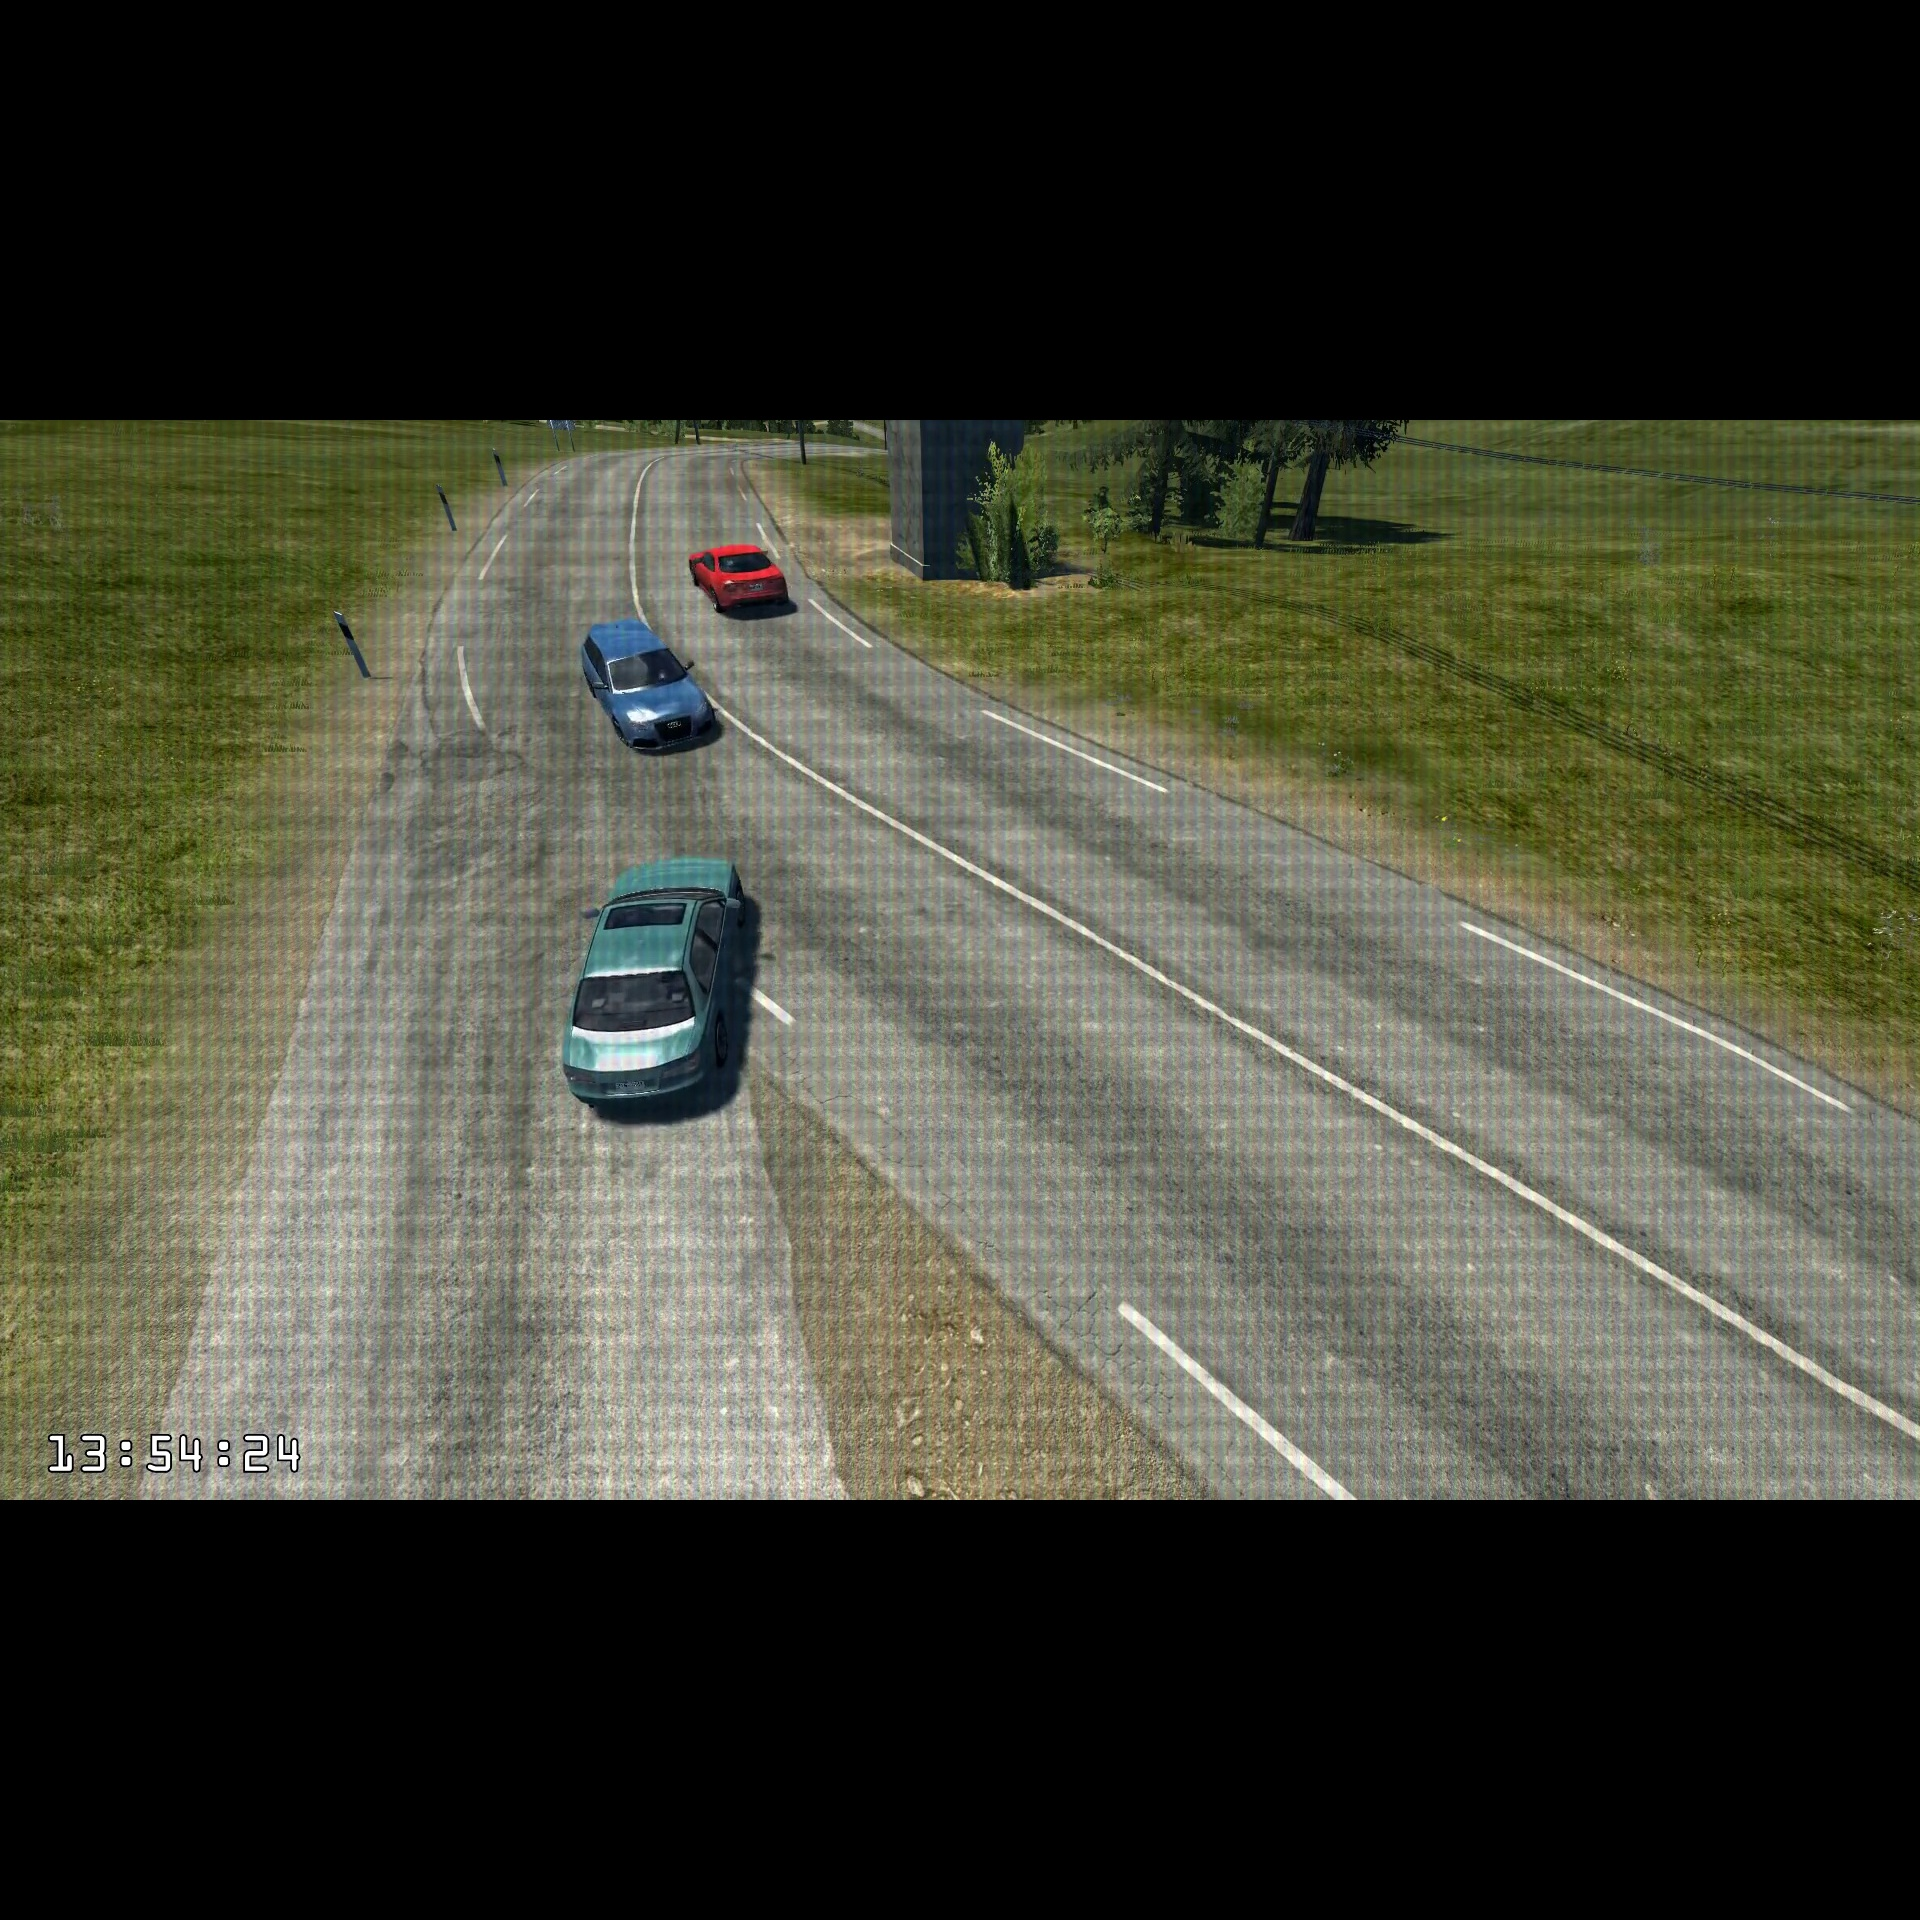vehicle: (559, 847, 758, 1120), (577, 615, 723, 758), (684, 535, 795, 622)
